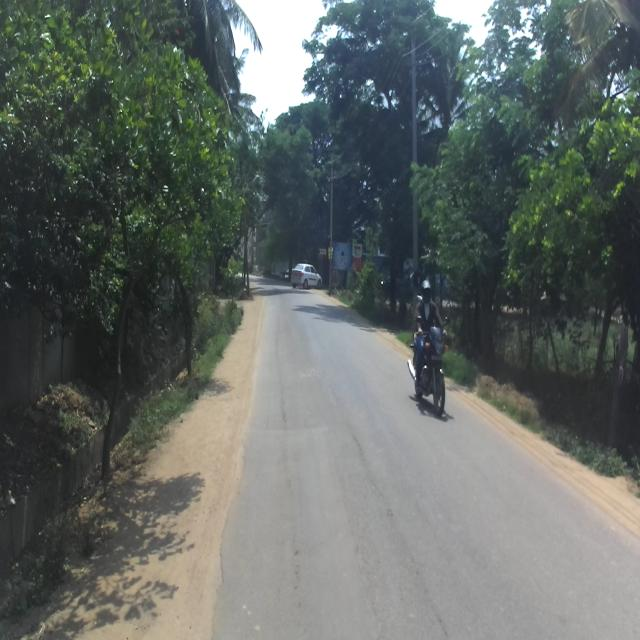motorcycle ahead at: (407, 328, 448, 426)
